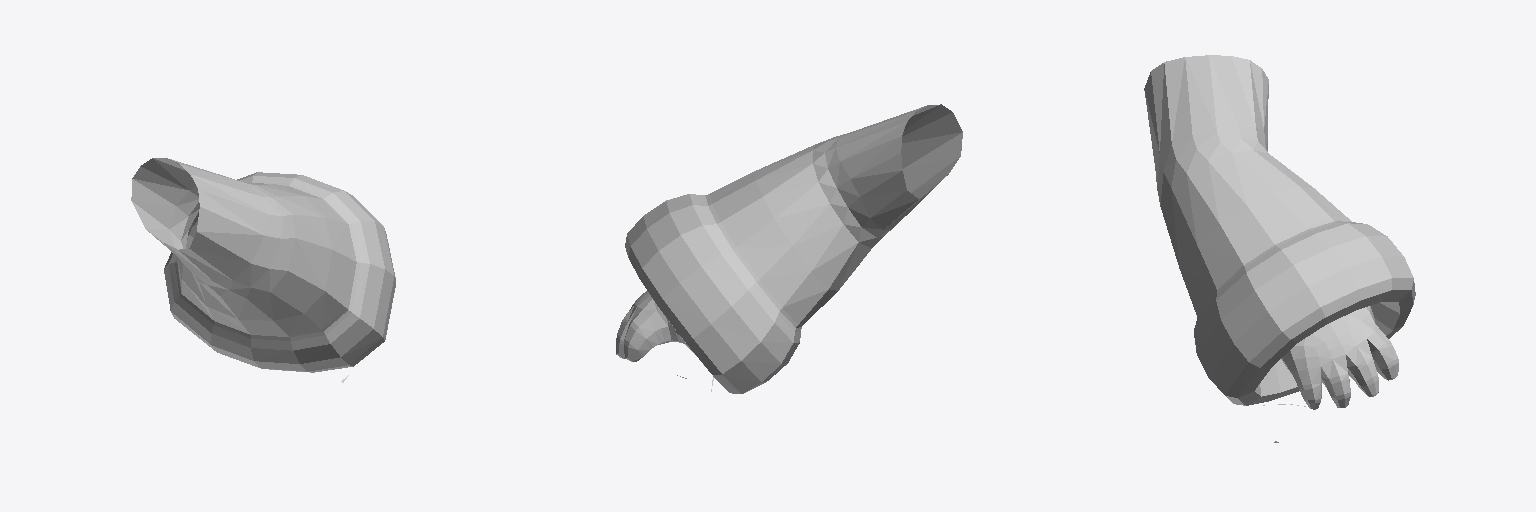
Rendered from brazo_der.obj.
The picture shows the model from 3 angles: view 1: azimuth 30°, elevation 25°; view 2: azimuth 150°, elevation 25°; view 3: azimuth 270°, elevation 25°; orthographic projection.
Visible parts, largest first — view 1: Body_jinsters_padoru.005; view 2: Body_jinsters_padoru.005; view 3: Body_jinsters_padoru.005.
Boxes of the visible parts, <box> form: Body_jinsters_padoru.005: <box>131,158,395,382</box>; Body_jinsters_padoru.005: <box>616,104,962,393</box>; Body_jinsters_padoru.005: <box>1144,55,1415,442</box>.
Bounding box in the file's own units: 0.1022 × 0.1082 × 0.0912.